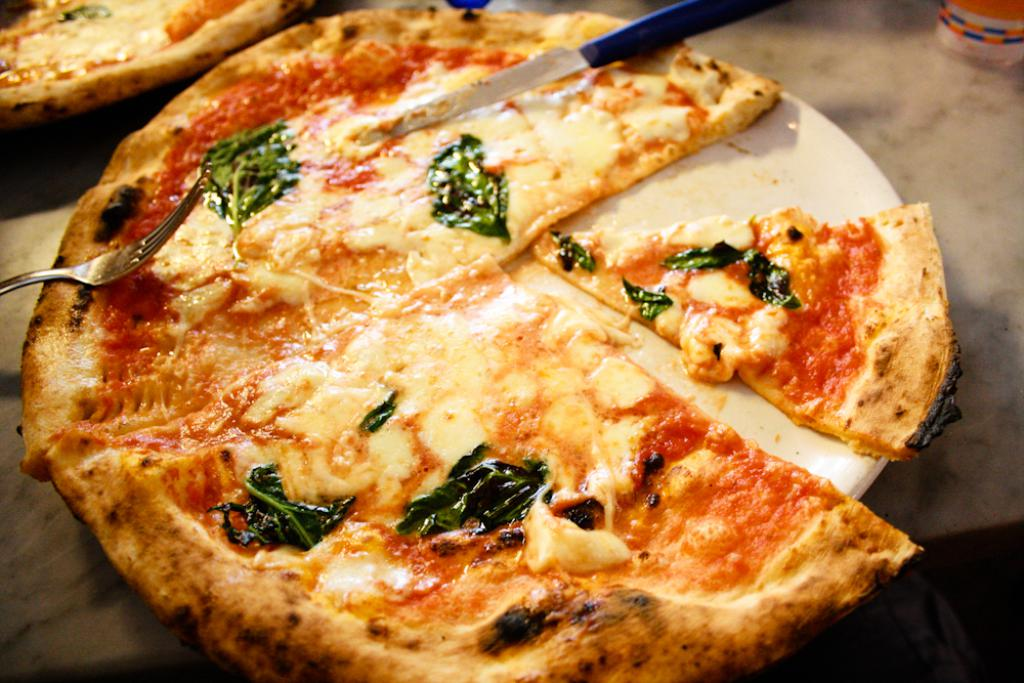Pizza: (51, 264, 481, 677), (507, 265, 921, 680), (36, 185, 493, 472), (517, 204, 963, 471), (454, 3, 778, 237), (76, 35, 436, 187), (5, 0, 319, 112)
